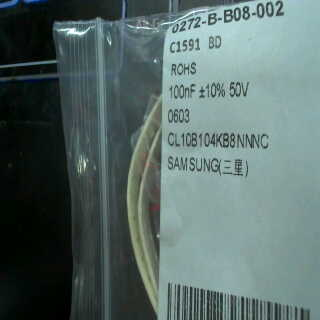100nF: (168, 81, 198, 102)
